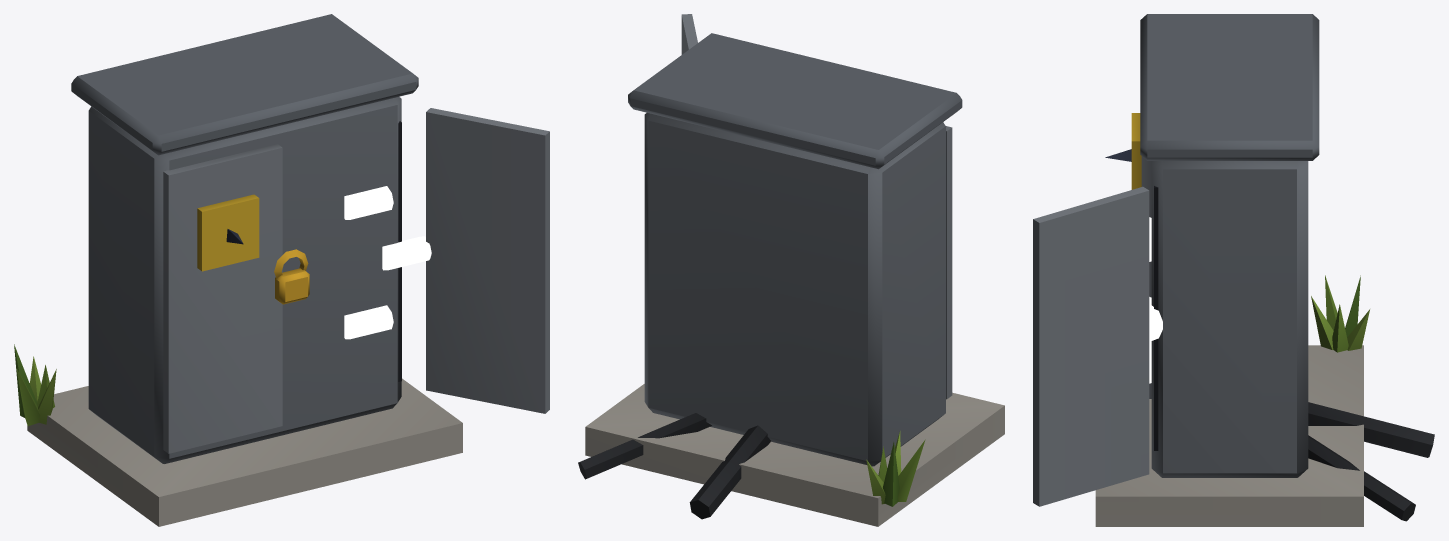
File: n_src_stadt.glb
3 views of the same model, side by side, from view 1: azimuth 30°, elevation 25°; view 2: azimuth 150°, elevation 25°; view 3: azimuth 270°, elevation 25° (orthographic). The views are drawn at different scales.
Visible parts, largest first — view 1: body, pulse_core_glow; view 2: body; view 3: body, pulse_core_glow.
Part boxes in pixels (x1,y1,x2,y2): body: [14, 14, 549, 526]; pulse_core_glow: [344, 186, 431, 339]; body: [578, 14, 1004, 526]; body: [1033, 14, 1434, 526]; pulse_core_glow: [1149, 217, 1162, 383].
Bounding box in the file's own units: 2.07 × 1.88 × 1.8.
